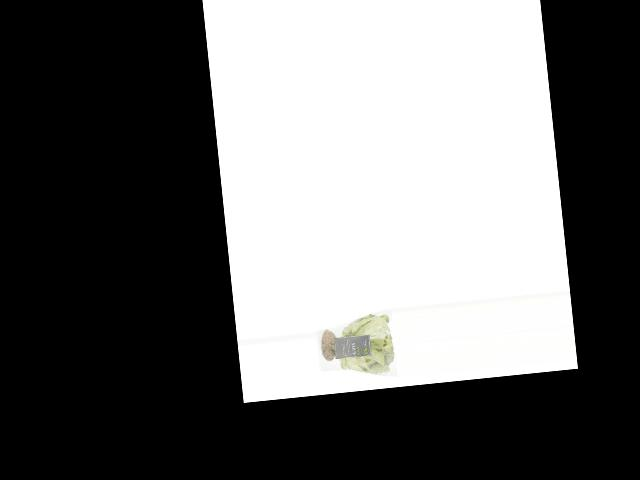lettuce: (313, 309, 397, 383)
